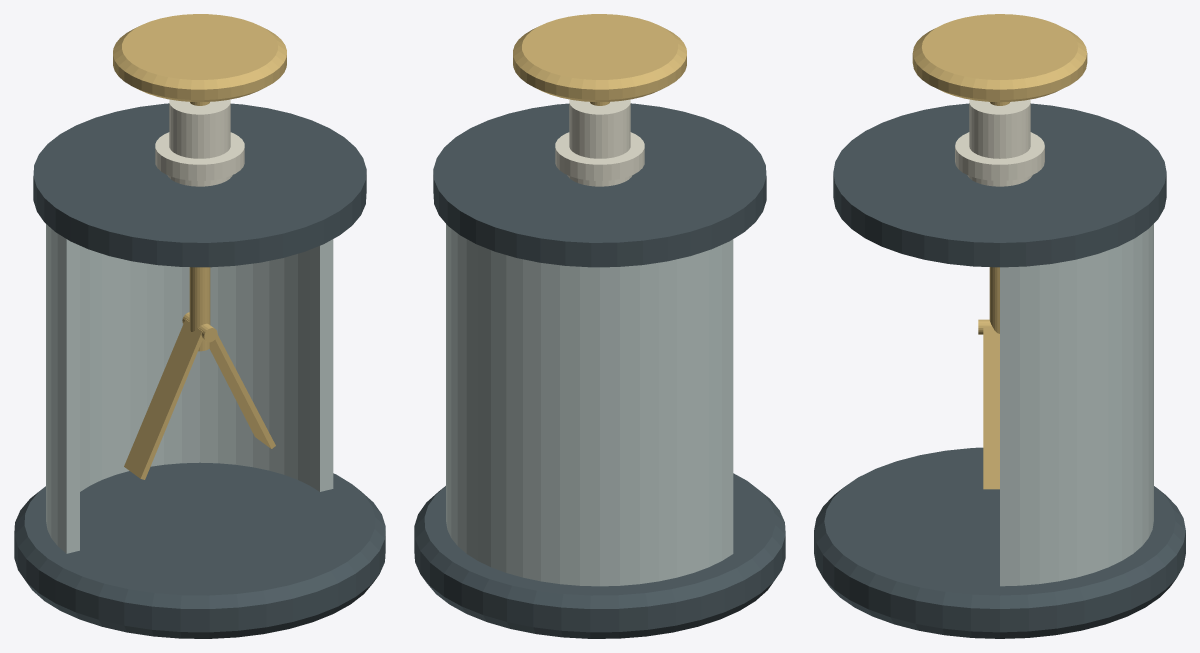
The picture shows the model from 3 angles, left to right: view 1: azimuth 30°, elevation 25°; view 2: azimuth 150°, elevation 25°; view 3: azimuth 270°, elevation 25°; orthographic projection.
Visible parts, largest first — view 1: WholeThickOpenFrontObservationCase, WholeRoundGroundBase, WholeAnnularCaseRoof, WholeBroadCollectorPlate, WholeBoredSteppedInsulatingNeck, WholeFiniteDivergingLeaf0, WholeFiniteDivergingLeaf1, WholeContinuousCollectorStem; view 2: WholeThickOpenFrontObservationCase, WholeAnnularCaseRoof, WholeRoundGroundBase, WholeBroadCollectorPlate, WholeBoredSteppedInsulatingNeck; view 3: WholeThickOpenFrontObservationCase, WholeRoundGroundBase, WholeAnnularCaseRoof, WholeBroadCollectorPlate, WholeBoredSteppedInsulatingNeck, WholeFiniteDivergingLeaf1, WholeContinuousCollectorStem.
Part boxes in pixels (<box>): WholeThickOpenFrontObservationCase: <box>46,224,333,553</box>; WholeRoundGroundBase: <box>14,462,385,638</box>; WholeAnnularCaseRoof: <box>33,103,366,267</box>; WholeBroadCollectorPlate: <box>113,14,286,101</box>; WholeBoredSteppedInsulatingNeck: <box>155,99,244,186</box>; WholeFiniteDivergingLeaf0: <box>124,319,202,479</box>; WholeFiniteDivergingLeaf1: <box>209,334,275,448</box>; WholeContinuousCollectorStem: <box>189,102,210,351</box>; WholeThickOpenFrontObservationCase: <box>446,224,733,586</box>; WholeAnnularCaseRoof: <box>433,103,766,267</box>; WholeRoundGroundBase: <box>414,473,785,638</box>; WholeBroadCollectorPlate: <box>513,14,686,101</box>; WholeBoredSteppedInsulatingNeck: <box>555,99,644,186</box>; WholeThickOpenFrontObservationCase: <box>1000,224,1153,586</box>; WholeRoundGroundBase: <box>814,447,1185,638</box>; WholeAnnularCaseRoof: <box>833,103,1166,267</box>; WholeBroadCollectorPlate: <box>912,14,1087,102</box>; WholeBoredSteppedInsulatingNeck: <box>955,99,1044,186</box>; WholeFiniteDivergingLeaf1: <box>983,326,999,489</box>; WholeContinuousCollectorStem: <box>989,102,1009,333</box>.
Size of the model in its own units: 0.29 by 0.444 by 0.29.
